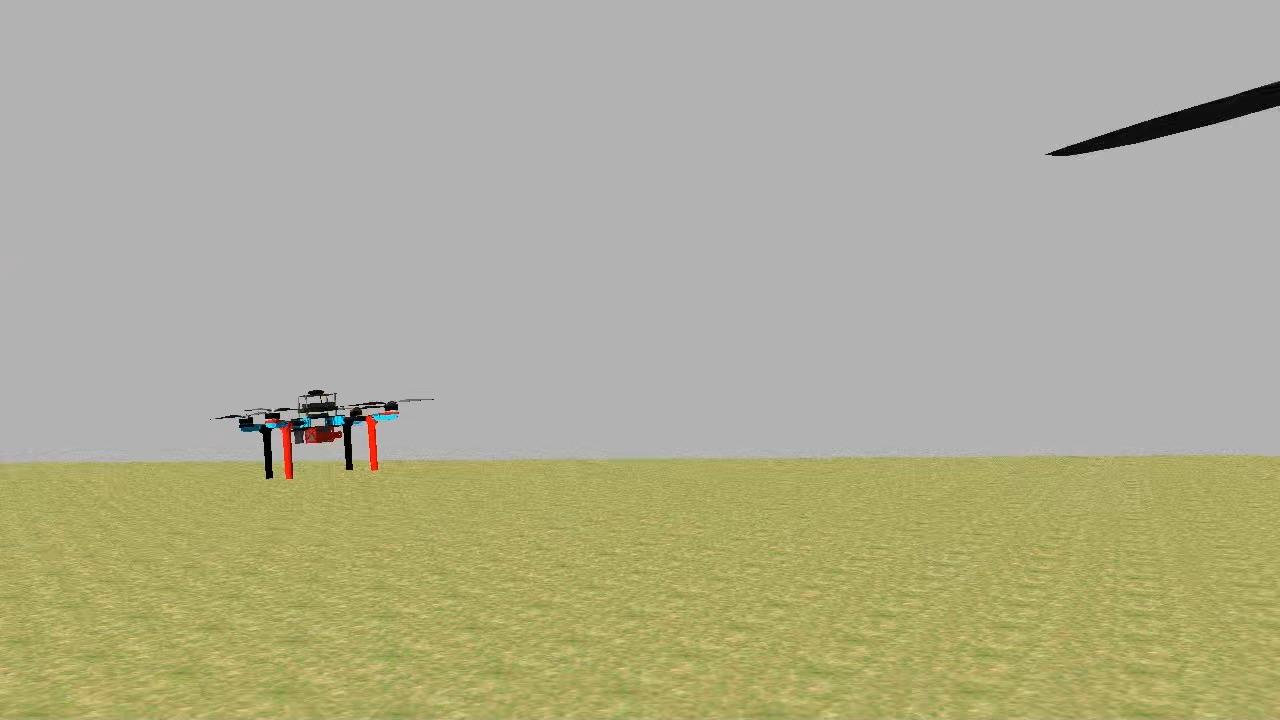UAV: (232, 382, 404, 482)
